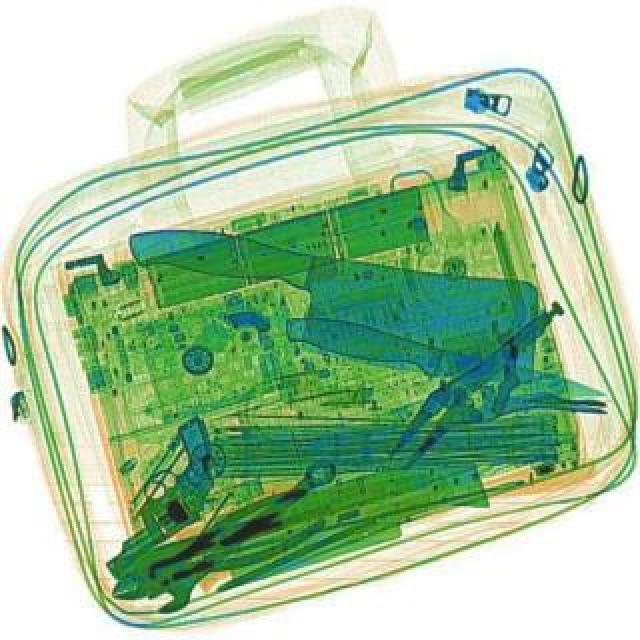gun: (58, 412, 254, 584)
knife: (112, 216, 552, 388), (282, 306, 606, 410)
scissors: (134, 448, 348, 622)
wrench: (94, 480, 330, 624)
